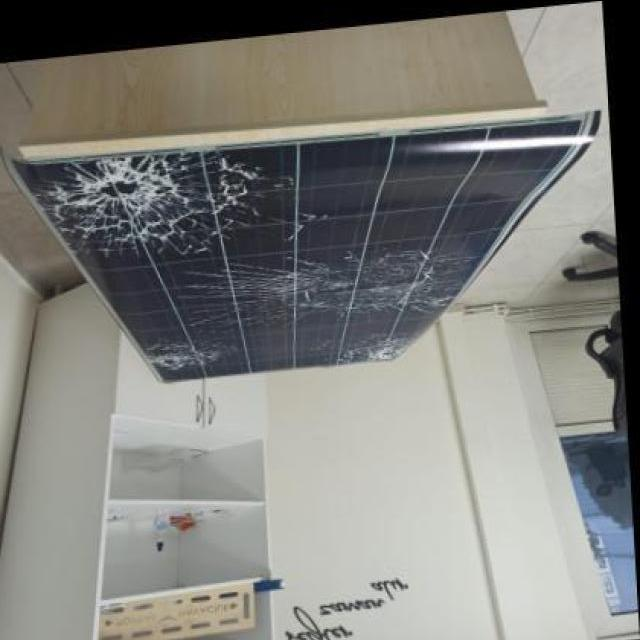cracked: (42, 126, 580, 382)
